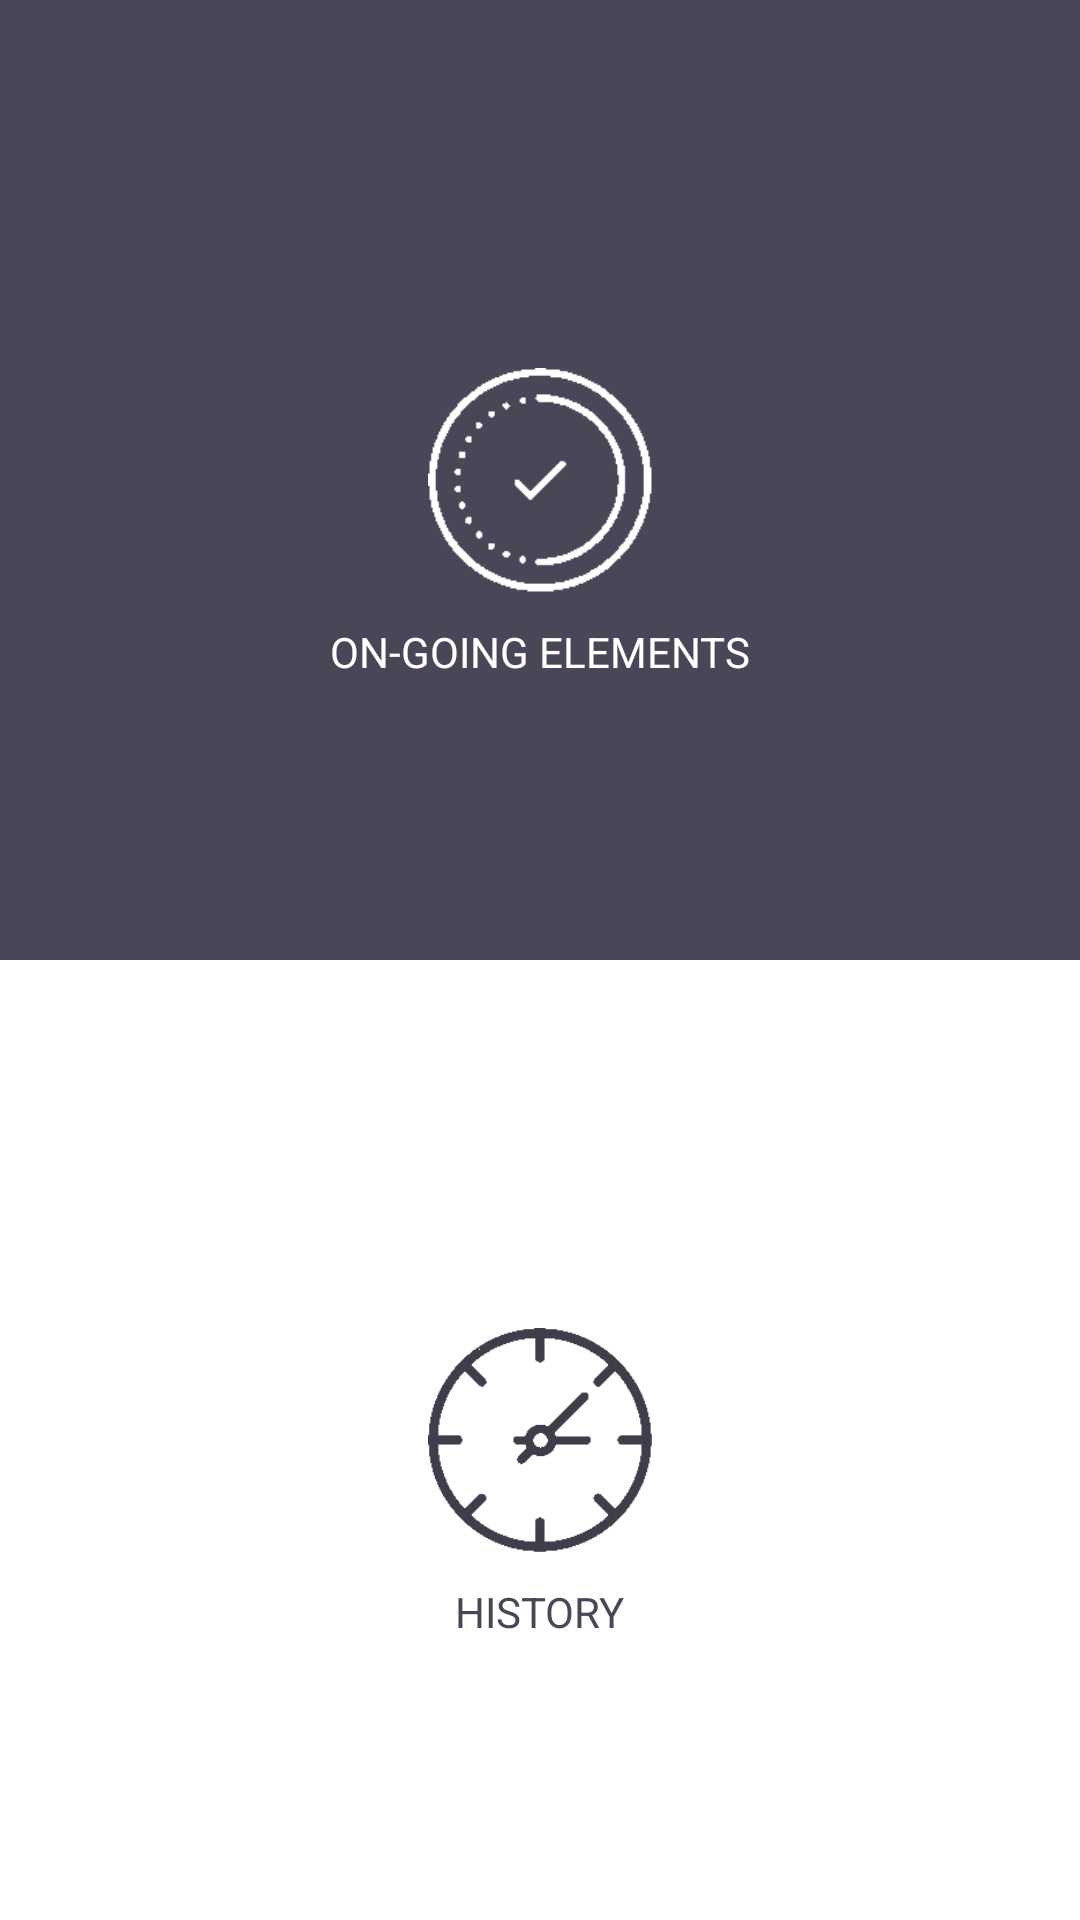

Icon click points for this 1080px x 1920px phone screenshot, format [x,y]:
approbation: [540,480]
